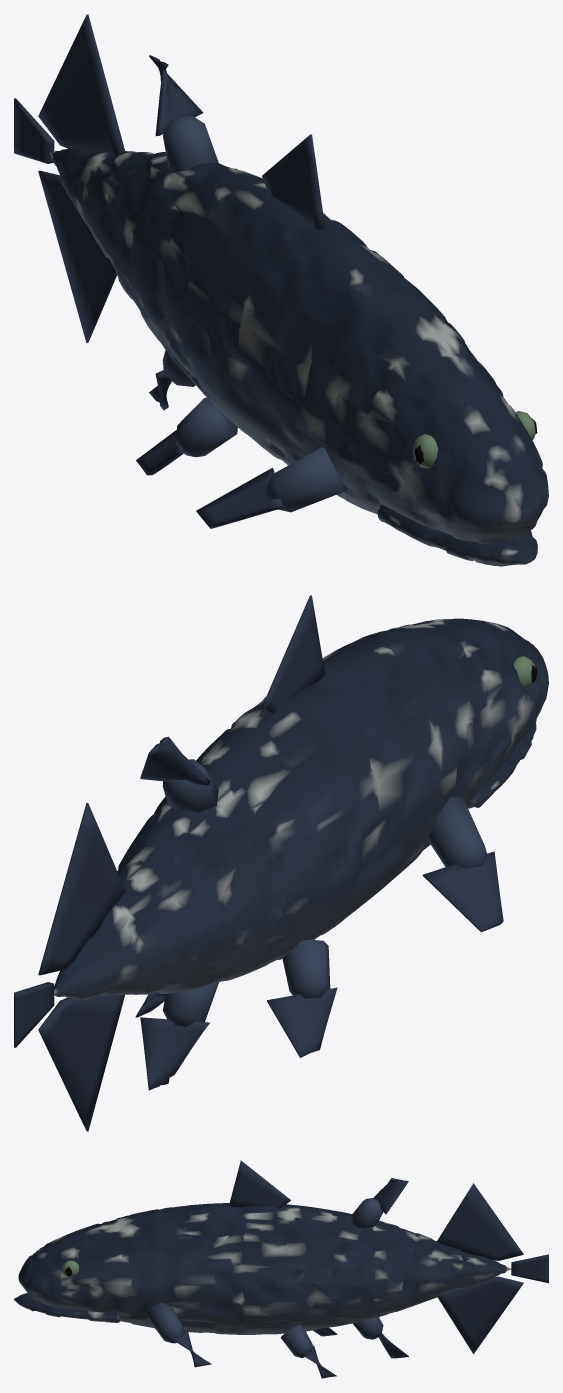
Rendered from Mawsonia.fbx.
3 views of the same model, one above another, from view 1: azimuth 30°, elevation 25°; view 2: azimuth 150°, elevation 25°; view 3: azimuth 270°, elevation 25° (orthographic). The views are drawn at different scales.
Parts seen in each view (by area): view 1: Mawsonia; view 2: Mawsonia; view 3: Mawsonia.
Boxes of the visible parts, x1=… form: Mawsonia: x1=14, y1=14, x2=548, y2=566; Mawsonia: x1=14, y1=595, x2=548, y2=1131; Mawsonia: x1=14, y1=1160, x2=548, y2=1378.
Bounding box in the file's own units: 0.565 × 0.6968 × 1.7.
